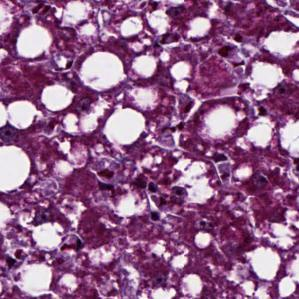steatosis: (79, 46, 125, 94), (101, 104, 145, 145)
